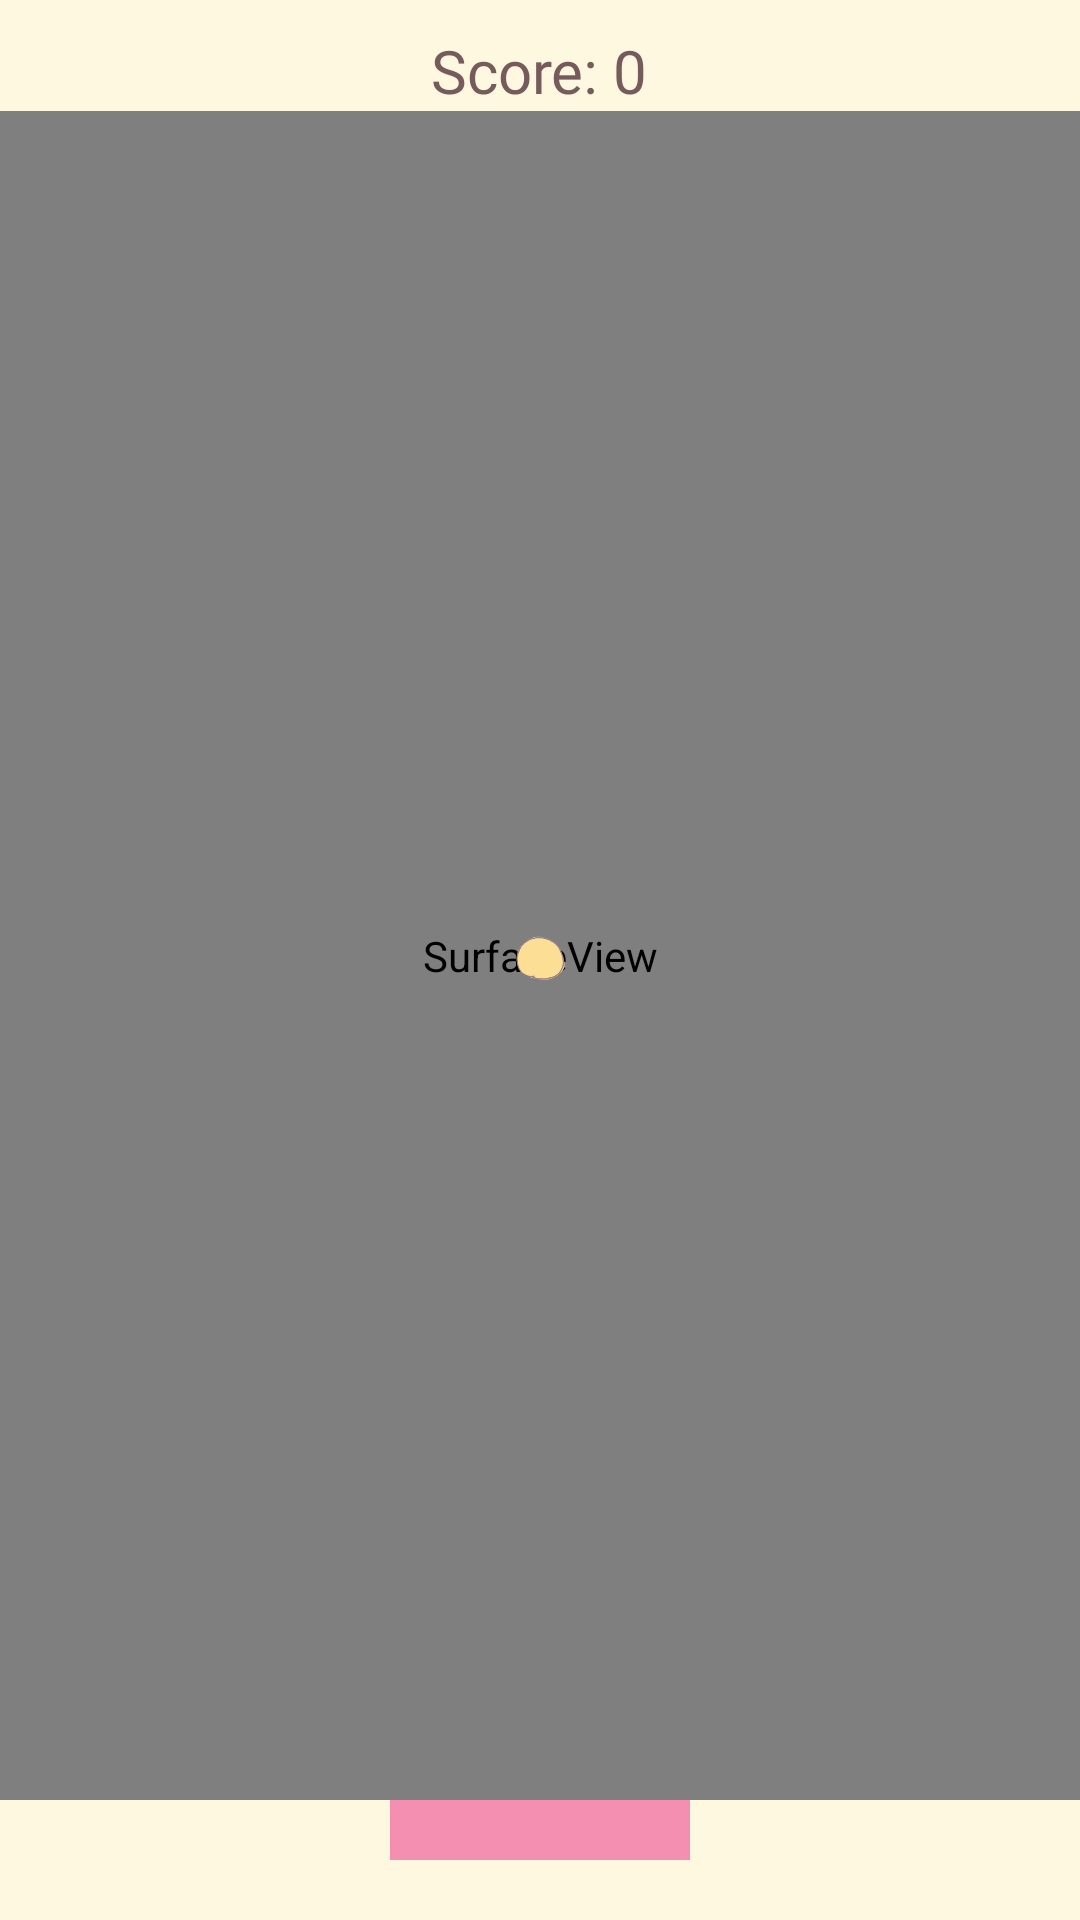

Locate icon controls on the screen. Image size 1080 × 1920, boxes as rect(x1, y1, x2, y2).
ball: rect(510, 937, 570, 980)
